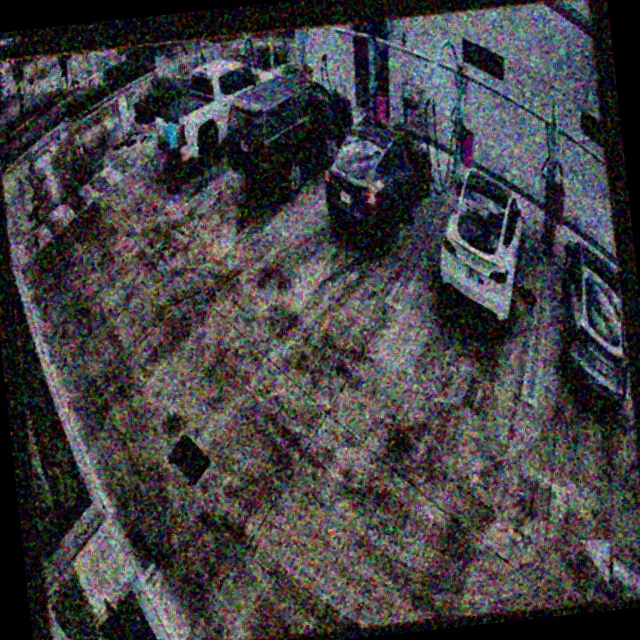Car: (219, 70, 360, 201), (429, 161, 535, 334), (318, 113, 438, 250), (151, 54, 288, 173)
